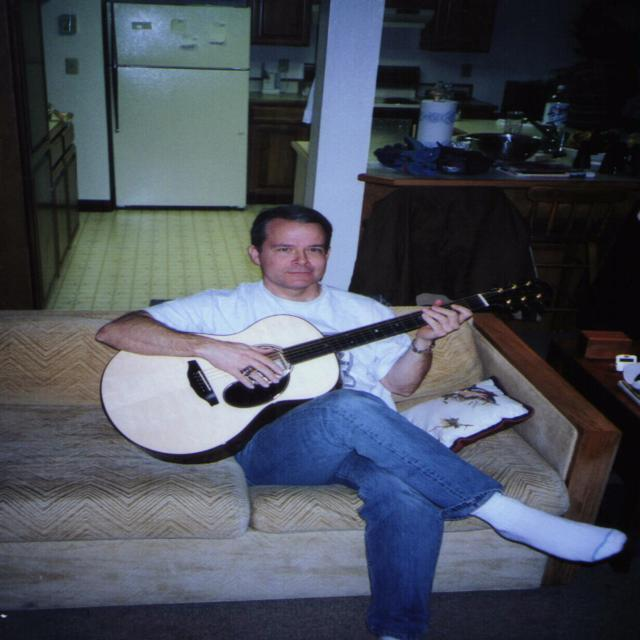guitar: (98, 277, 547, 464)
